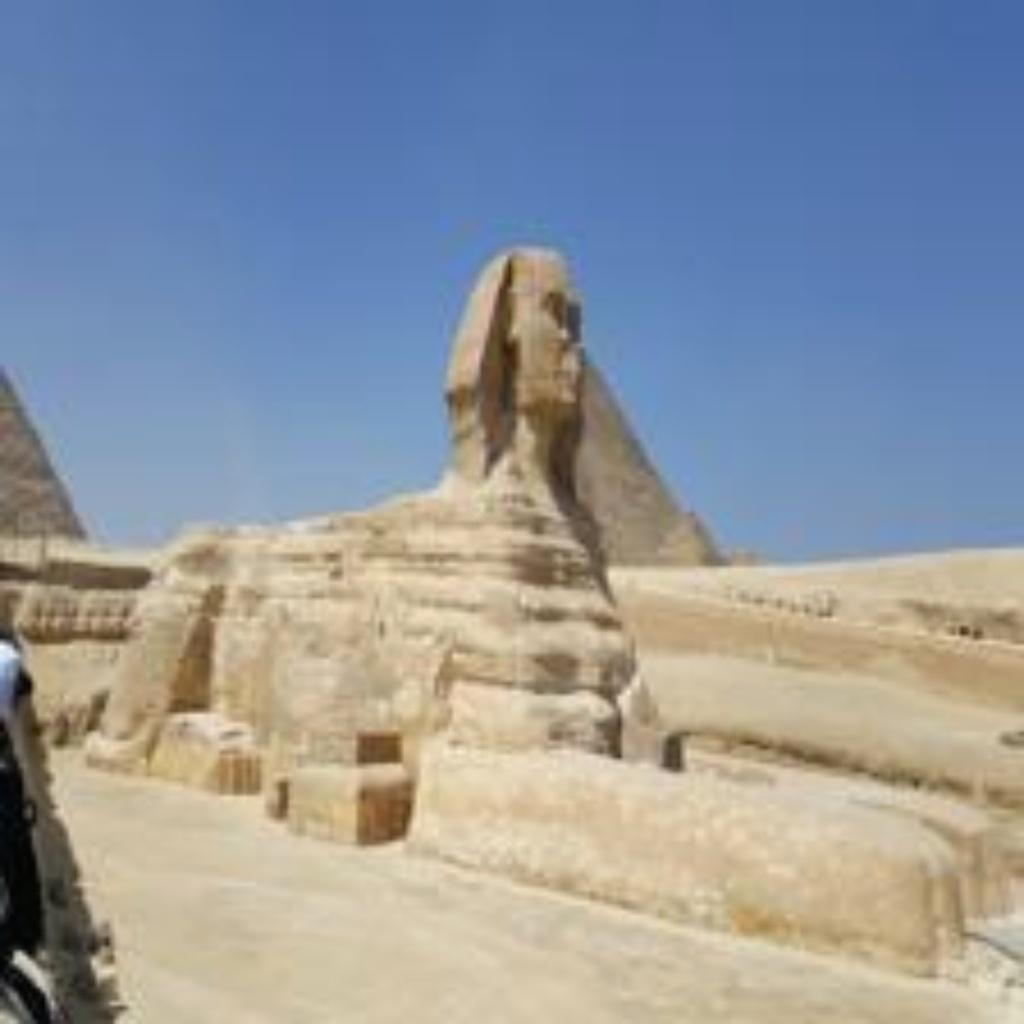Sphinx: (426, 239, 628, 473)
